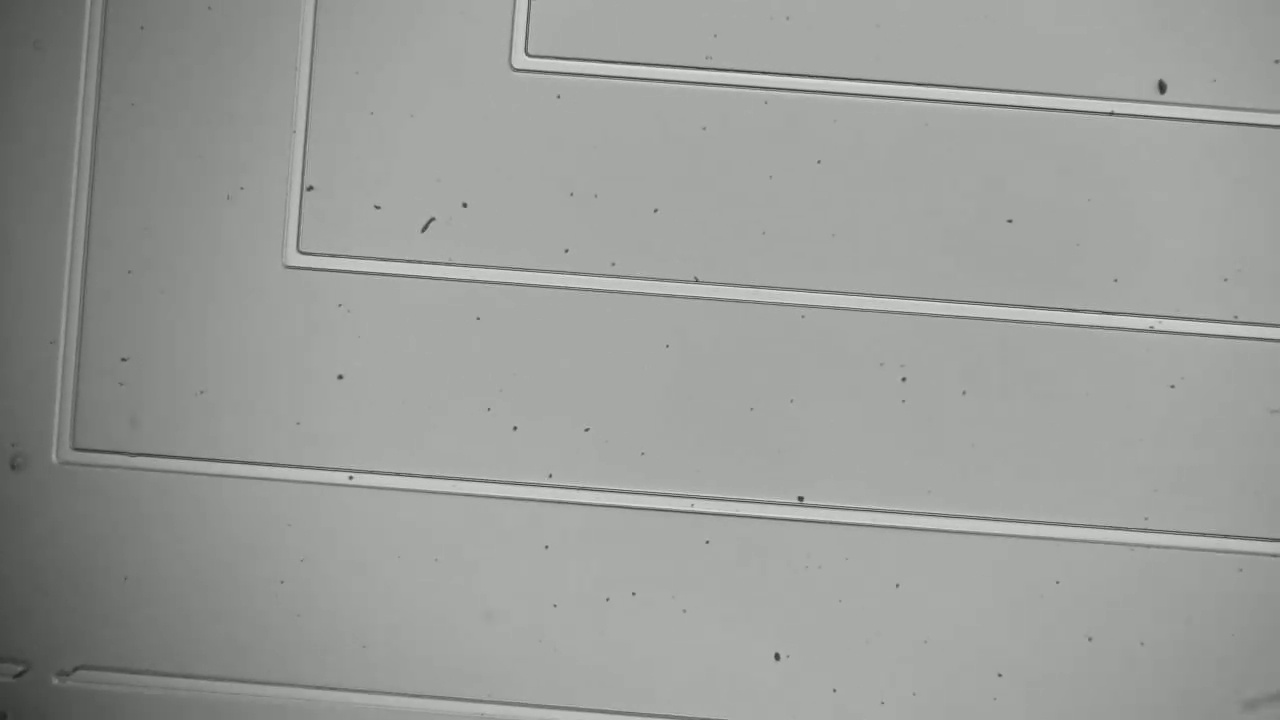open: (0, 639, 96, 709)
